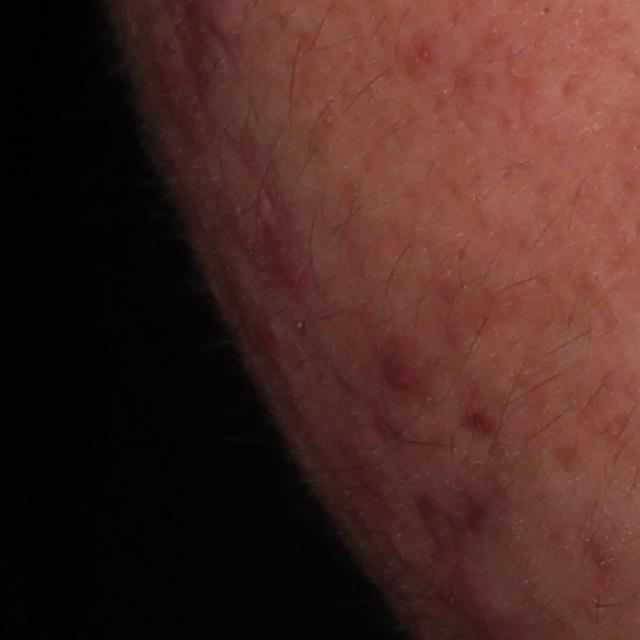atrophic_scar: (459, 410, 491, 440)
